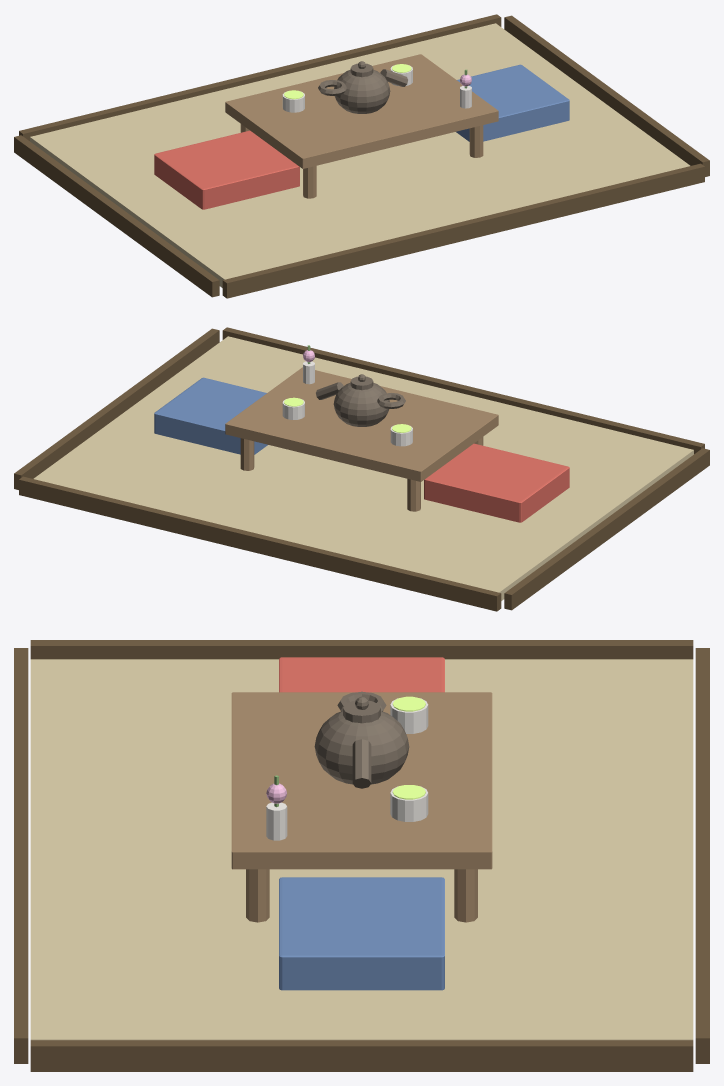
File: tea_garden_set.glb
The picture shows the model from 3 angles, top to bottom: view 1: azimuth 30°, elevation 25°; view 2: azimuth 150°, elevation 25°; view 3: azimuth 270°, elevation 25°; orthographic projection. The views are drawn at different scales.
Visible parts, largest first — view 1: tea_garden_set; view 2: tea_garden_set; view 3: tea_garden_set.
Boxes of the visible parts, box(x1,y1,x2,y2) form: tea_garden_set: box(14, 14, 709, 298); tea_garden_set: box(14, 327, 709, 611); tea_garden_set: box(14, 640, 709, 1071).
Size of the model in its own units: 2.03 by 0.4 by 1.47.
